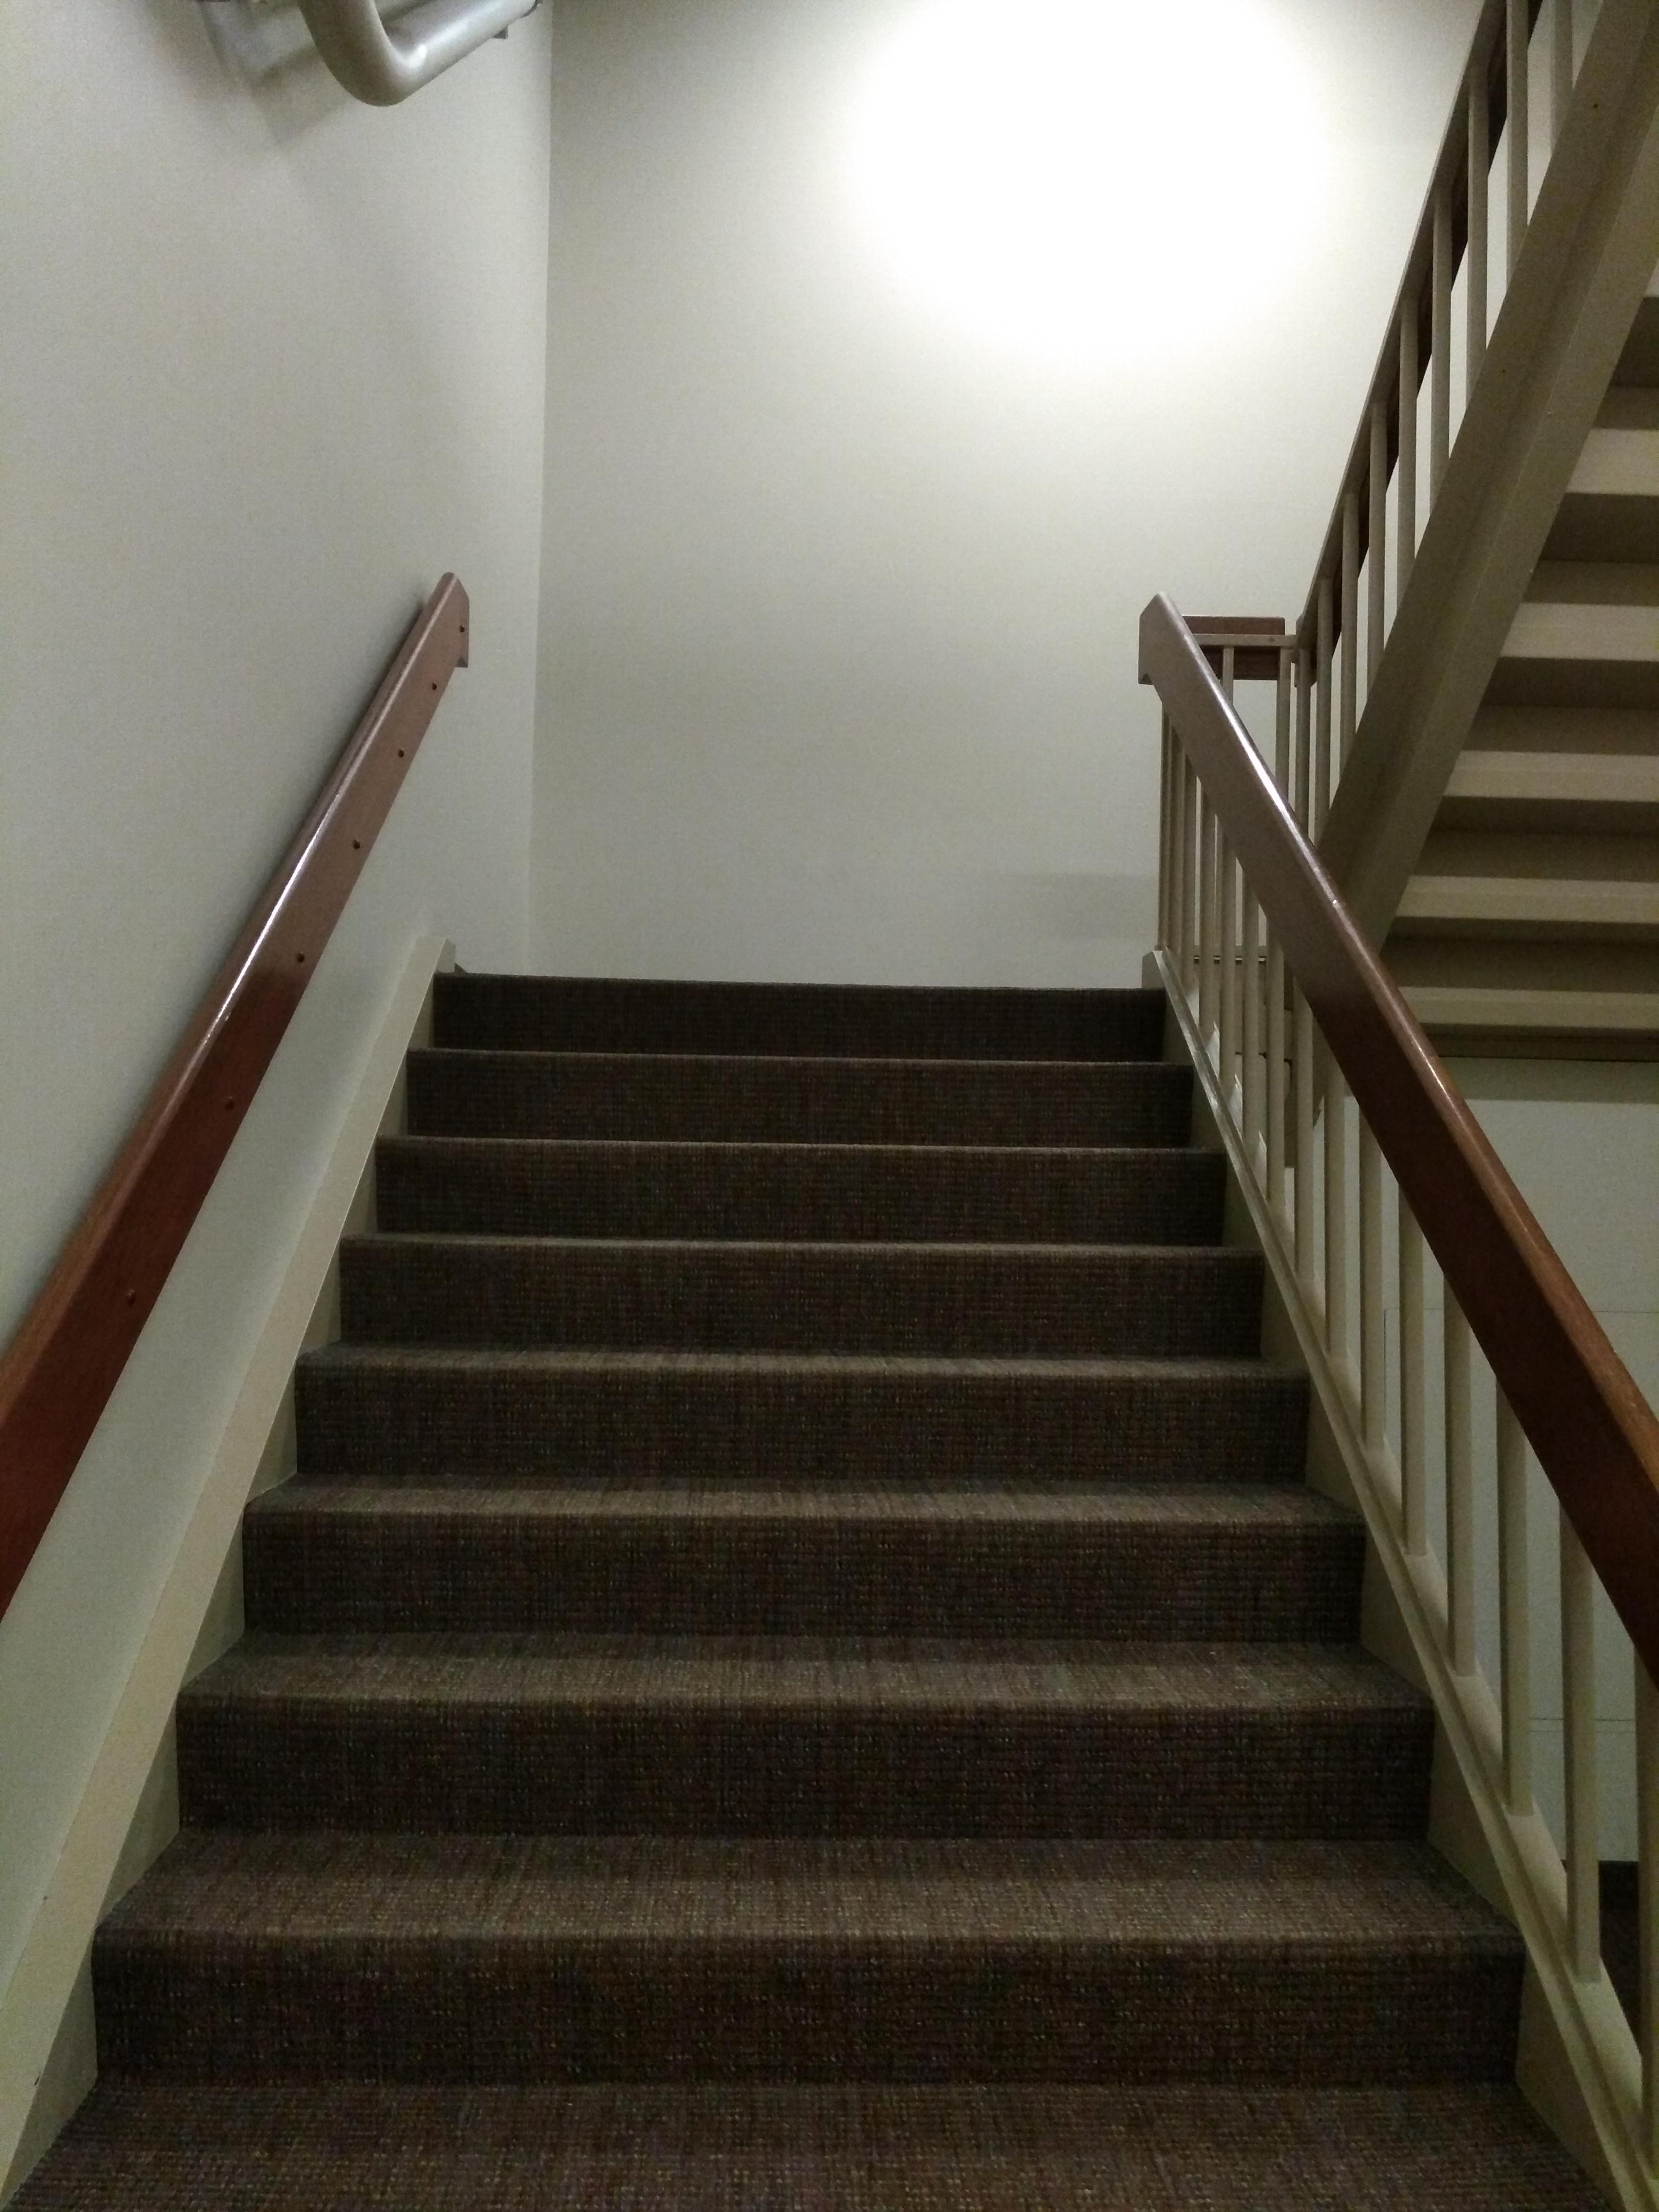stairs_up: (85, 934, 1572, 2189)
